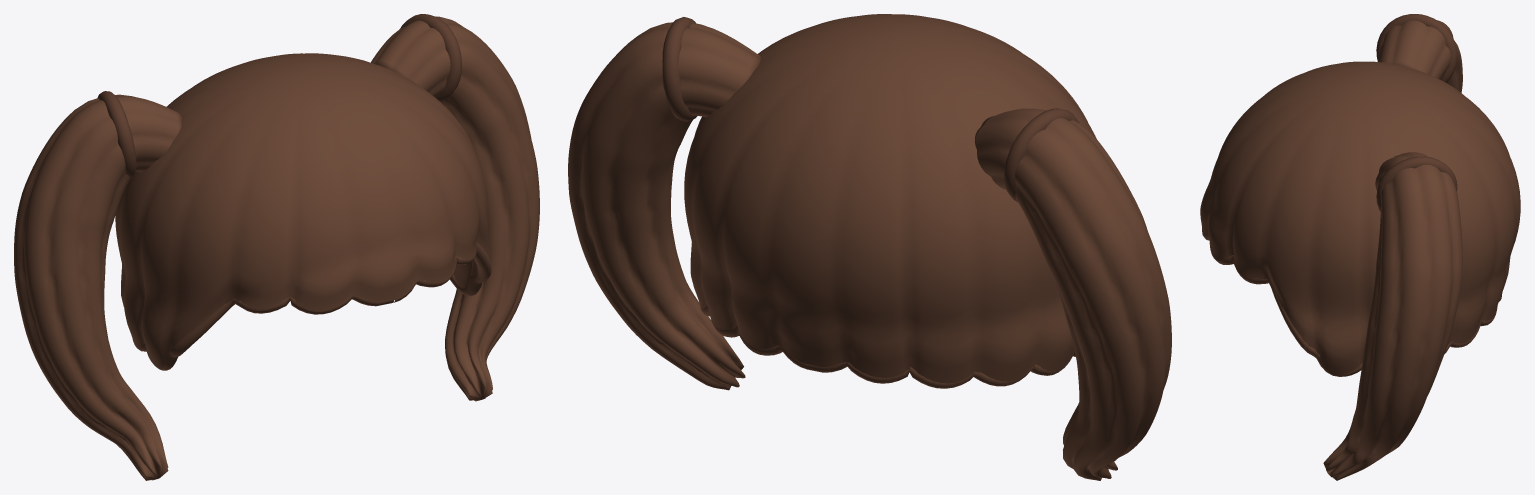
The model's file is hair_g_twin.glb.
3 views of the same model, side by side, from view 1: azimuth 30°, elevation 25°; view 2: azimuth 150°, elevation 25°; view 3: azimuth 270°, elevation 25° (orthographic). The views are drawn at different scales.
Visible parts, largest first — view 1: Hair_G_TWIN; view 2: Hair_G_TWIN; view 3: Hair_G_TWIN.
Boxes of the visible parts, x1,y1,x2,y2 form: Hair_G_TWIN: [14, 14, 539, 480]; Hair_G_TWIN: [568, 14, 1171, 480]; Hair_G_TWIN: [1200, 14, 1520, 480].
Size of the model in its own units: 0.9408 by 0.6309 by 0.5615.
